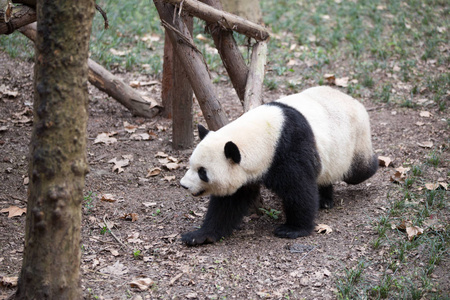panda: (166, 82, 397, 235)
